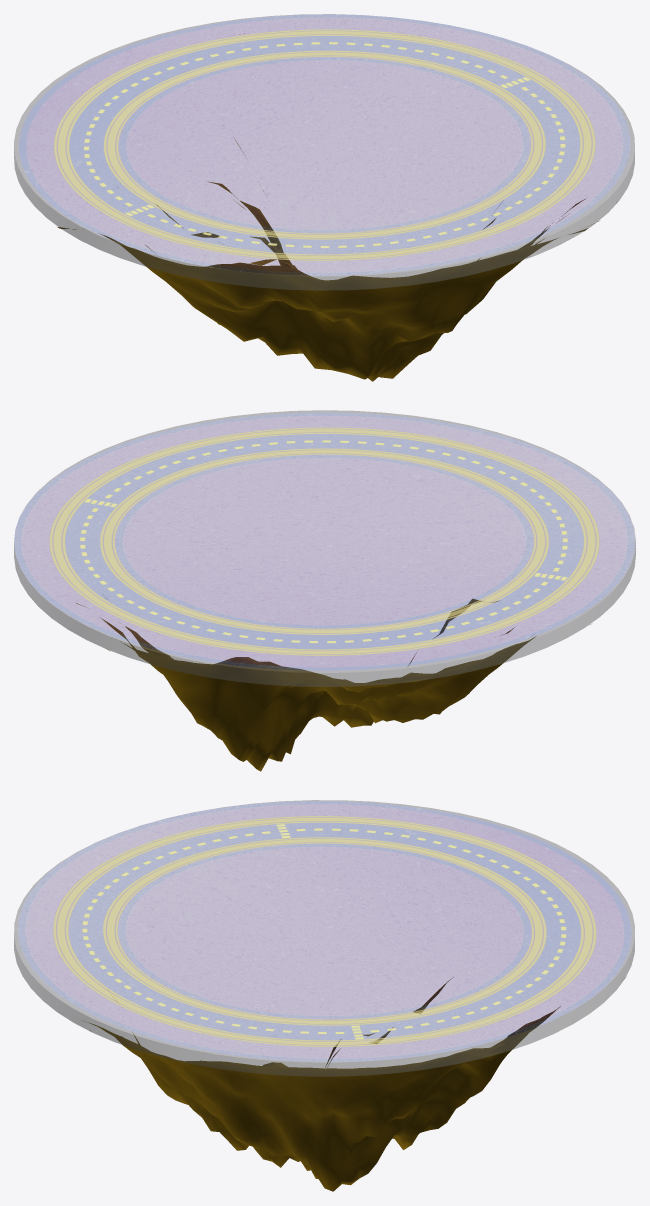
The model's file is base-tex-shader.glb.
The picture shows the model from 3 angles, top to bottom: view 1: azimuth 30°, elevation 25°; view 2: azimuth 150°, elevation 25°; view 3: azimuth 270°, elevation 25°; orthographic projection.
Visible parts, largest first — view 1: Disc, Landscape; view 2: Disc, Landscape; view 3: Disc, Landscape.
Part boxes in pixels (bbox=[...]): Disc: bbox=[14, 14, 634, 290]; Landscape: bbox=[57, 33, 616, 381]; Disc: bbox=[14, 410, 635, 686]; Landscape: bbox=[76, 597, 590, 771]; Disc: bbox=[14, 800, 634, 1076]; Landscape: bbox=[88, 978, 624, 1191].
Size of the model in its own units: 5 by 2.01 by 5.
2 materials, 1 textured.
